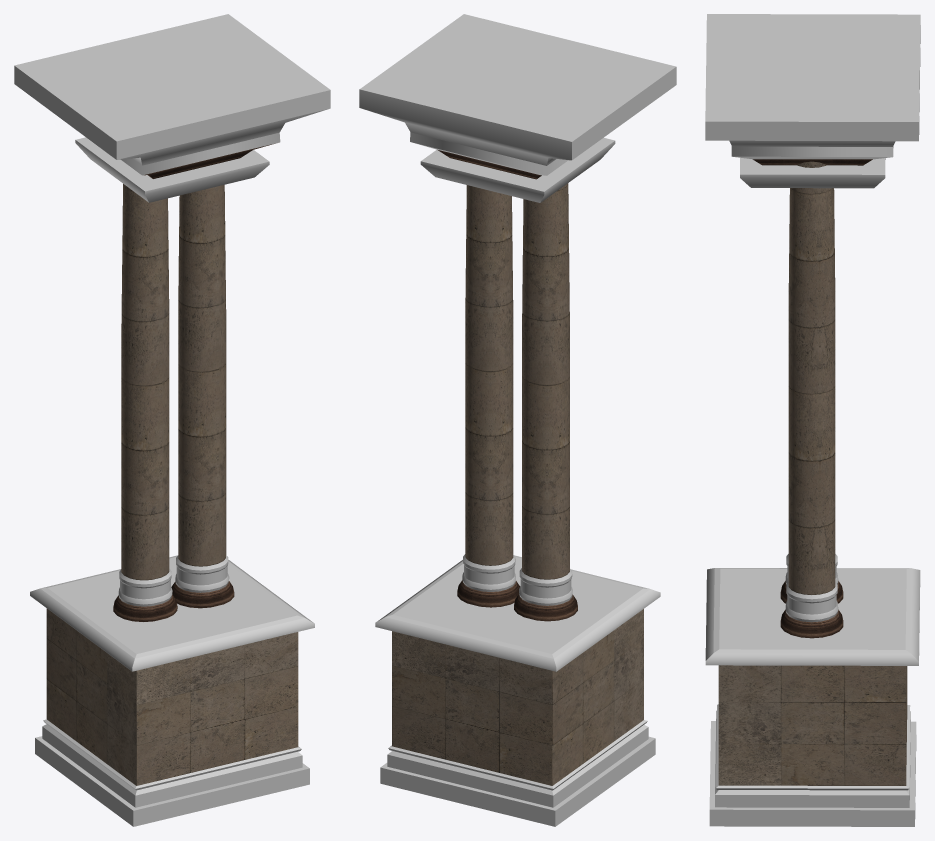
Rendered from Prop_Pillar_Double.FBX.
The picture shows the model from 3 angles, left to right: view 1: azimuth 30°, elevation 25°; view 2: azimuth 150°, elevation 25°; view 3: azimuth 270°, elevation 25°; orthographic projection. The views are drawn at different scales.
Parts seen in each view (by area): view 1: Prop_Pillar_Double; view 2: Prop_Pillar_Double; view 3: Prop_Pillar_Double.
Part boxes in pixels (<box>): Prop_Pillar_Double: <box>14,14,330,826</box>; Prop_Pillar_Double: <box>359,14,676,826</box>; Prop_Pillar_Double: <box>705,14,920,826</box>.
Bounding box in the file's own units: 1.66 × 5.13 × 1.4.
